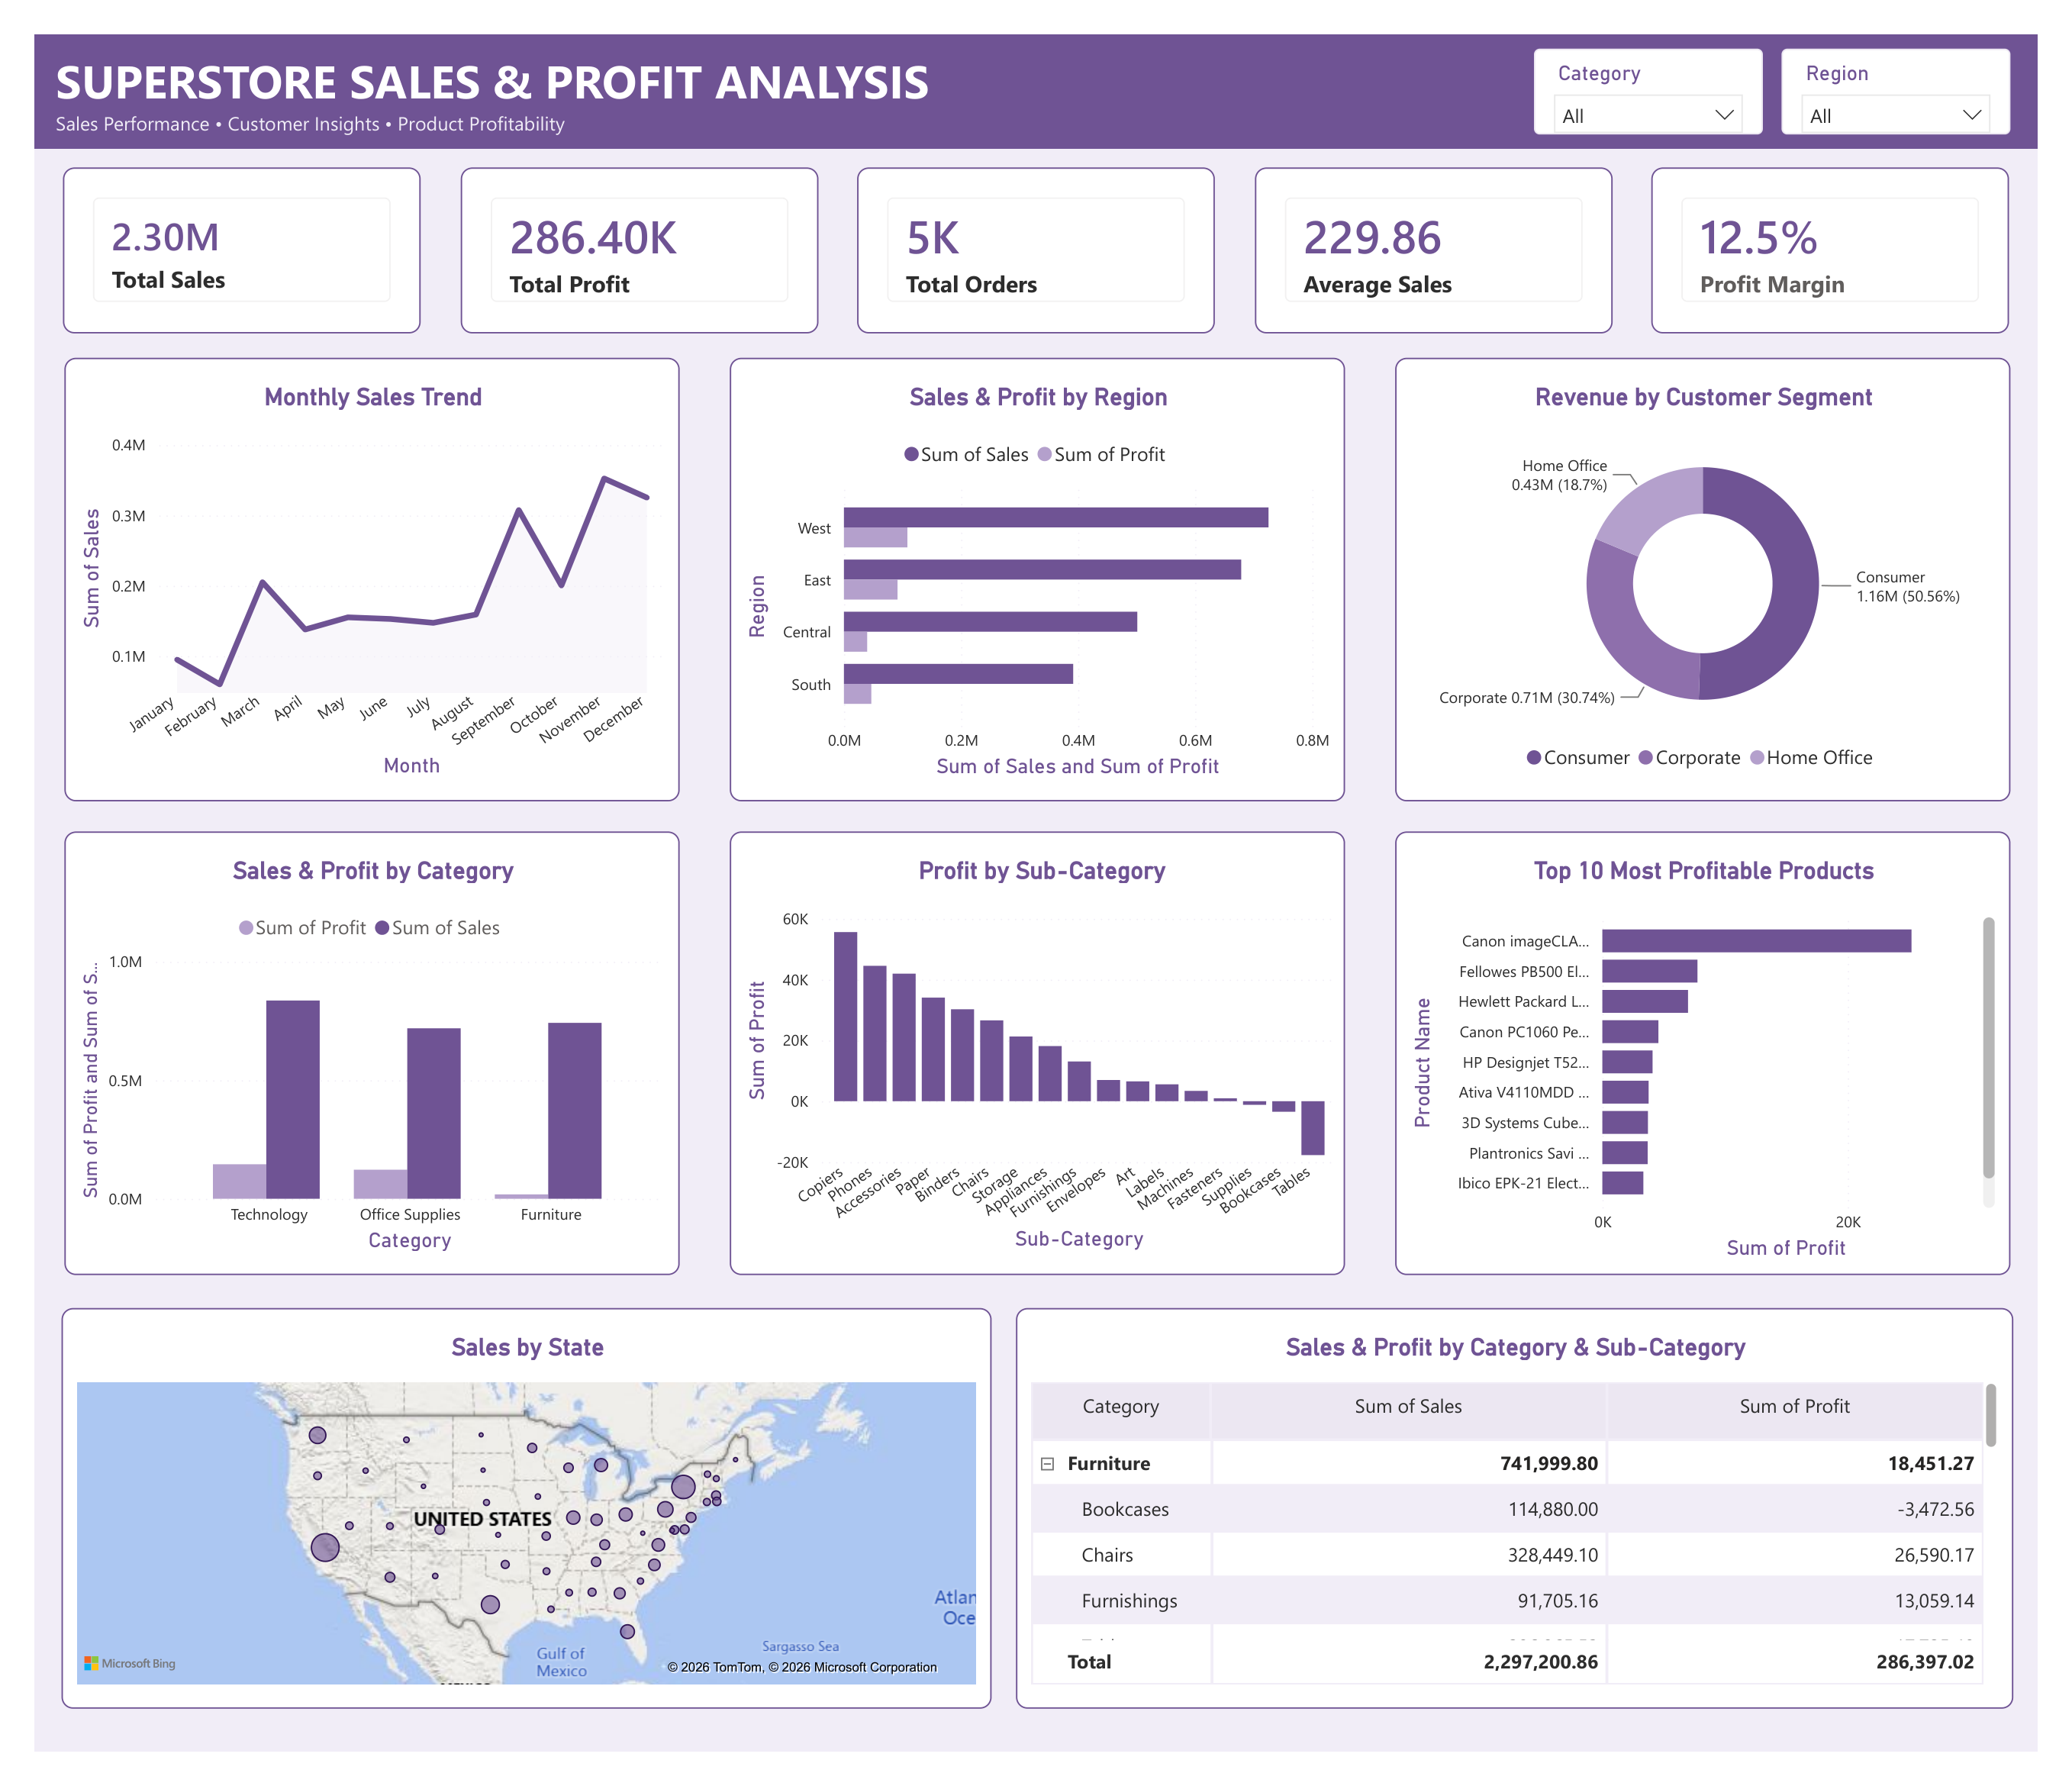

The page's visual inventory and layout, read from the dashboard file:
{"tool":"powerbi","page":{"name":"Dashboard","canvas":[1400,1200],"ordinal":0},"visuals":[{"type":"textbox","box":[0,0,1400,80],"z":0},{"type":"cardVisual","fields":{"Data":["Superstore_Sales.Total Sales"]},"box":[20,92.9,250,115.7],"z":1000},{"type":"cardVisual","fields":{"Data":["Superstore_Sales.Total Profit"]},"box":[297.5,92.9,250,115.7],"z":2000},{"type":"cardVisual","fields":{"Data":["Superstore_Sales.Total Orders"]},"box":[575,92.9,250,115.7],"z":3000},{"type":"cardVisual","fields":{"Data":["Superstore_Sales.Profit Margin"]},"box":[1130,92.9,250,115.7],"z":4000},{"type":"cardVisual","fields":{"Data":["Superstore_Sales.Average Sales"]},"box":[852.5,92.9,250,115.7],"z":5000},{"type":"lineChart","title":"Monthly Sales Trend","fields":{"Category":["Superstore_Sales.Order Date.Variation.Date Hierarchy.Month"],"Y":["Sum(Superstore_Sales.Sales)"]},"box":[21.4,225.7,430,310],"z":6000},{"type":"clusteredBarChart","title":"Sales & Profit by Region","fields":{"Category":["Superstore_Sales.Region"],"Y":["Sum(Superstore_Sales.Sales)","Sum(Superstore_Sales.Profit)"]},"box":[486.4,225.7,430,310],"z":7000},{"type":"donutChart","title":"Revenue by Customer Segment","fields":{"Category":["Superstore_Sales.Segment"],"Y":["Sum(Superstore_Sales.Sales)"]},"box":[951.4,225.7,430,310],"z":8000},{"type":"clusteredColumnChart","title":"Sales & Profit by Category","fields":{"Category":["Superstore_Sales.Category"],"Y":["Sum(Superstore_Sales.Profit)","Sum(Superstore_Sales.Sales)"]},"box":[21.4,557.1,430,310],"z":9000},{"type":"clusteredColumnChart","title":"Profit by Sub-Category","fields":{"Category":["Superstore_Sales.Sub-Category"],"Y":["Sum(Superstore_Sales.Profit)"]},"box":[486.4,557.1,430,310],"z":10000},{"type":"clusteredBarChart","title":"Top 10 Most Profitable Products","fields":{"Category":["Superstore_Sales.Product Name"],"Y":["Sum(Superstore_Sales.Profit)"]},"box":[951.4,557.1,430,310],"z":11000},{"type":"map","title":"Sales by State","fields":{"Category":["Superstore_Sales.State"],"Size":["Sum(Superstore_Sales.Sales)"]},"box":[18.6,890,650,280],"z":12000},{"type":"pivotTable","title":"Sales & Profit by Category & Sub-Category","fields":{"Rows":["Superstore_Sales.Category","Superstore_Sales.Sub-Category"],"Values":["Sum(Superstore_Sales.Sales)","Sum(Superstore_Sales.Profit)"]},"box":[685.7,890,697.1,280],"z":13000},{"type":"slicer","title":"Region","fields":{"Values":["Superstore_Sales.Region"]},"box":[1221,10,160,60],"z":14000},{"type":"slicer","title":"Category","fields":{"Values":["Superstore_Sales.Category"]},"box":[1048.5,10,160,60],"z":15000}]}

Visuals, with their boxes in screenshot pixels (x1, y1, x2, y2), scaled from the page's 1400x1200 canvas onto the 2072x1786 screenshot:
textbox: 0, 0, 2071, 119
cardVisual - Superstore_Sales.Total Sales: 30, 138, 400, 311
cardVisual - Superstore_Sales.Total Profit: 440, 138, 810, 311
cardVisual - Superstore_Sales.Total Orders: 851, 138, 1221, 311
cardVisual - Superstore_Sales.Profit Margin: 1672, 138, 2042, 311
cardVisual - Superstore_Sales.Average Sales: 1262, 138, 1632, 311
"Monthly Sales Trend" lineChart: 32, 336, 668, 798
"Sales & Profit by Region" clusteredBarChart: 720, 336, 1356, 798
"Revenue by Customer Segment" donutChart: 1408, 336, 2045, 798
"Sales & Profit by Category" clusteredColumnChart: 32, 829, 668, 1291
"Profit by Sub-Category" clusteredColumnChart: 720, 829, 1356, 1291
"Top 10 Most Profitable Products" clusteredBarChart: 1408, 829, 2045, 1291
"Sales by State" map: 27, 1325, 990, 1742
"Sales & Profit by Category & Sub-Category" pivotTable: 1015, 1325, 2047, 1742
"Region" slicer: 1807, 15, 2044, 104
"Category" slicer: 1552, 15, 1789, 104
